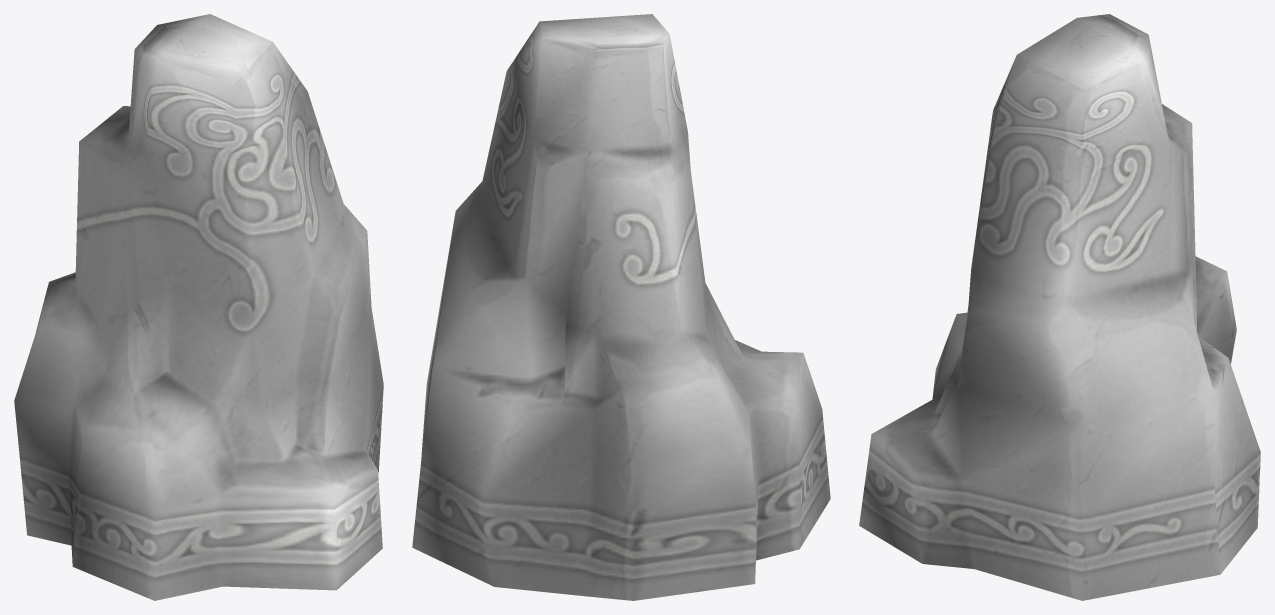
File: SD_rock_001.fbx
The picture shows the model from 3 angles, left to right: view 1: azimuth 30°, elevation 25°; view 2: azimuth 150°, elevation 25°; view 3: azimuth 270°, elevation 25°; orthographic projection. The views are drawn at different scales.
Visible parts, largest first — view 1: SD_ston_003; view 2: SD_ston_003; view 3: SD_ston_003.
Part boxes in pixels (bbox=[...]): SD_ston_003: bbox=[14, 14, 383, 600]; SD_ston_003: bbox=[412, 14, 830, 600]; SD_ston_003: bbox=[859, 14, 1260, 600].
Bounding box in the file's own units: 5.94 × 7.92 × 6.09.
